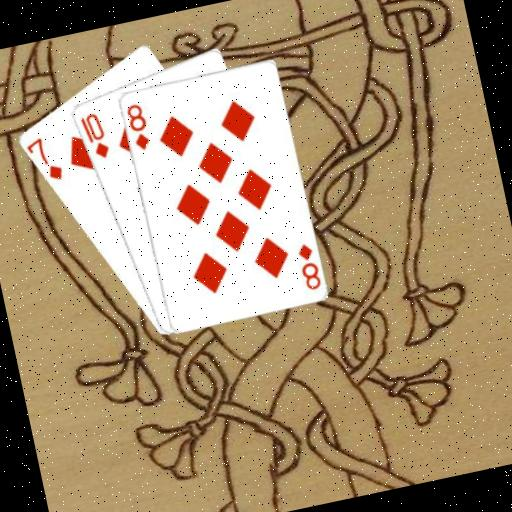10D: (75, 107, 111, 162)
7D: (22, 131, 65, 187)
8D: (122, 99, 153, 153), (292, 238, 322, 292)
